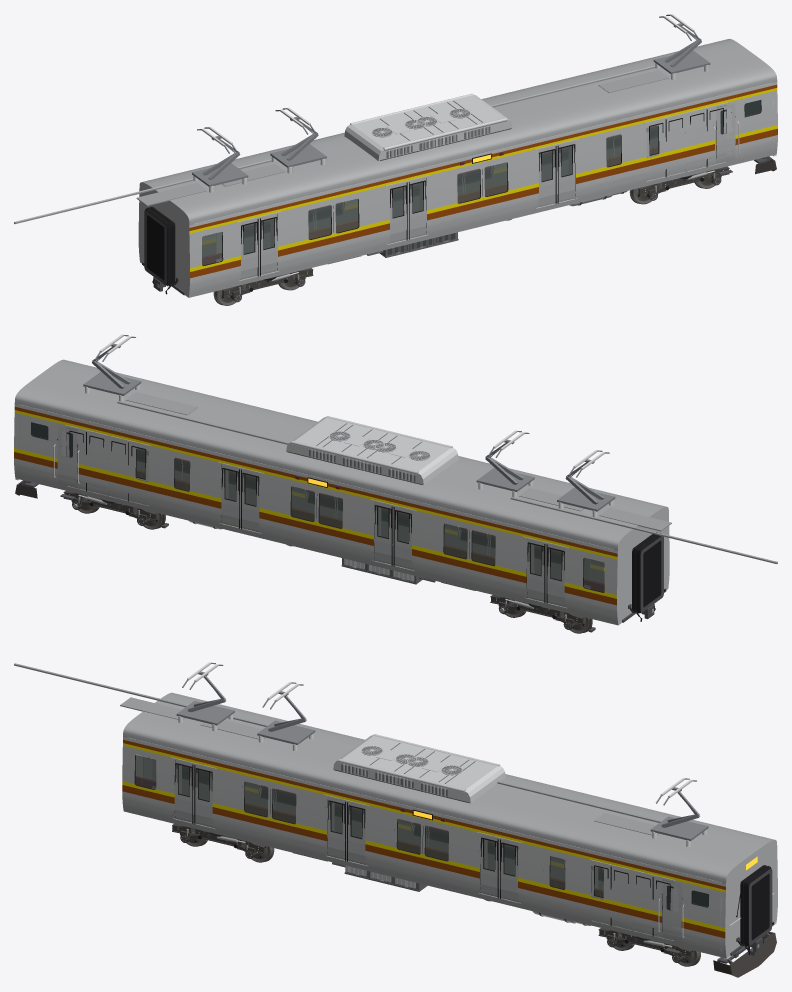
The picture shows the model from 3 angles, top to bottom: view 1: azimuth 30°, elevation 25°; view 2: azimuth 150°, elevation 25°; view 3: azimuth 330°, elevation 25°; orthographic projection. The views are drawn at different scales.
Visible parts, largest first — view 1: e131_cab, e131_mid_panto, e131_cab_panto, e131_cab_fine, e131_mid_panto_seats, e131_cab_seats, e131_cab_door3_R_a, e131_cab_door2_R_a, e131_cab_door2_R_b, e131_cab_door3_R_b, e131_mid_panto_door2_R_b, e131_mid_panto_door2_R_a (+7 smaller); view 2: e131_cab, e131_mid_panto, e131_cab_panto, e131_cab_fine, e131_cab_seats, e131_mid_panto_seats, e131_cab_door3_L_b, e131_cab_door1_L_b, e131_cab_door1_L_a, e131_cab_door3_L_a, e131_cab_door2_L_b, e131_cab_door2_L_a (+7 smaller); view 3: e131_cab, e131_mid_panto, e131_cab_panto, e131_cab_seats, e131_mid_panto_fine, e131_cab_fine, e131_cab_door3_R_b, e131_cab_door1_R_a, e131_cab_door2_R_b, e131_cab_door1_R_b, e131_cab_door3_R_a, e131_mid_panto_seats (+7 smaller).
Boxes of the visible parts, x1,y1,x2,y2 form: e131_cab: (138,40,776,302); e131_mid_panto: (138,14,777,296); e131_cab_panto: (14,107,702,293); e131_cab_fine: (142,119,739,300); e131_mid_panto_seats: (202,134,658,265); e131_cab_seats: (244,125,657,246); e131_cab_door3_R_a: (240,218,258,279); e131_cab_door2_R_a: (389,182,407,243); e131_cab_door2_R_b: (407,177,426,240); e131_cab_door3_R_b: (258,214,277,276); e131_mid_panto_door2_R_b: (558,141,575,202); e131_mid_panto_door2_R_a: (538,145,558,207); e131_cab: (15,361,669,632); e131_mid_panto: (14,334,669,624); e131_cab_panto: (91,430,777,620); e131_cab_fine: (53,442,665,628); e131_cab_seats: (137,448,604,592); e131_mid_panto_seats: (137,457,600,590); e131_cab_door3_L_b: (527,539,546,603); e131_cab_door1_L_b: (221,464,241,528); e131_cab_door1_L_a: (241,469,259,528); e131_cab_door3_L_a: (547,544,565,606); e131_cab_door2_L_b: (374,502,394,565); e131_cab_door2_L_a: (394,507,412,567); e131_cab: (122,692,776,977); e131_mid_panto: (122,693,777,958); e131_cab_panto: (14,662,667,953); e131_cab_seats: (182,766,603,888); e131_mid_panto_fine: (387,757,773,954); e131_cab_fine: (177,746,685,961); e131_cab_door3_R_b: (192,764,212,827); e131_cab_door1_R_a: (480,834,498,897); e131_cab_door2_R_b: (345,801,365,864); e131_cab_door1_R_b: (498,839,518,898); e131_cab_door3_R_a: (174,761,192,823); e131_mid_panto_seats: (135,754,603,896).
Bounding box in the file's own units: 24.44 × 5.17 × 3.1.
